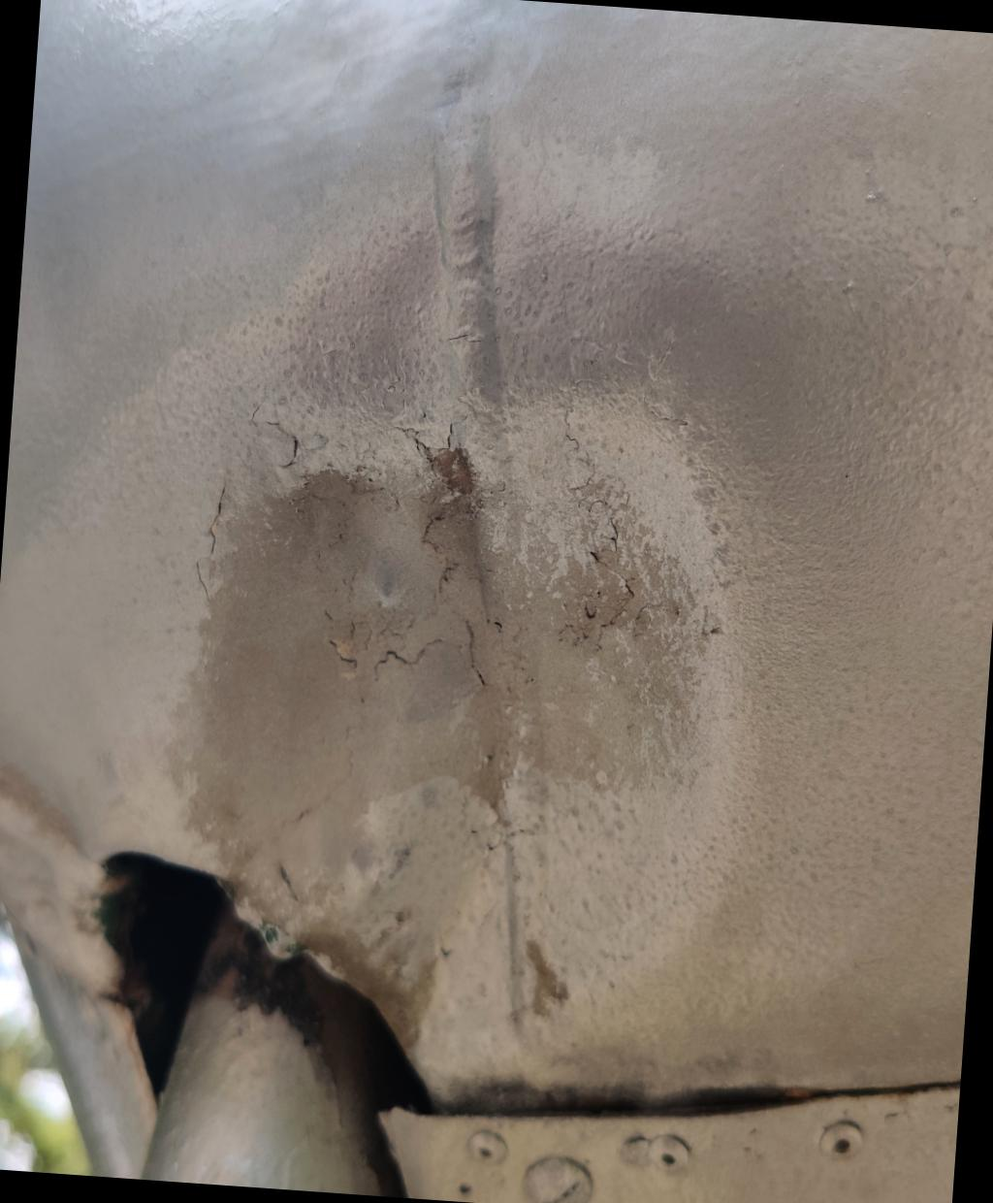dent: (161, 304, 781, 1038), (0, 714, 115, 908)
